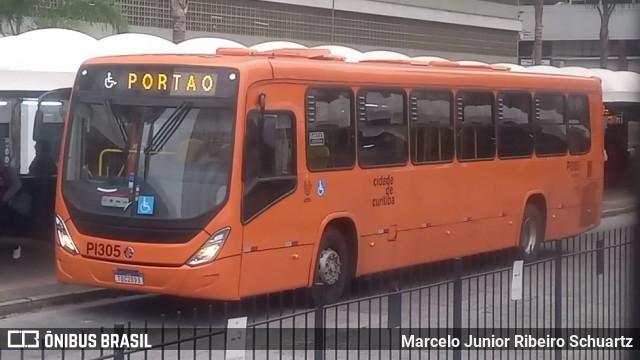PORTAO: (122, 68, 221, 95)
